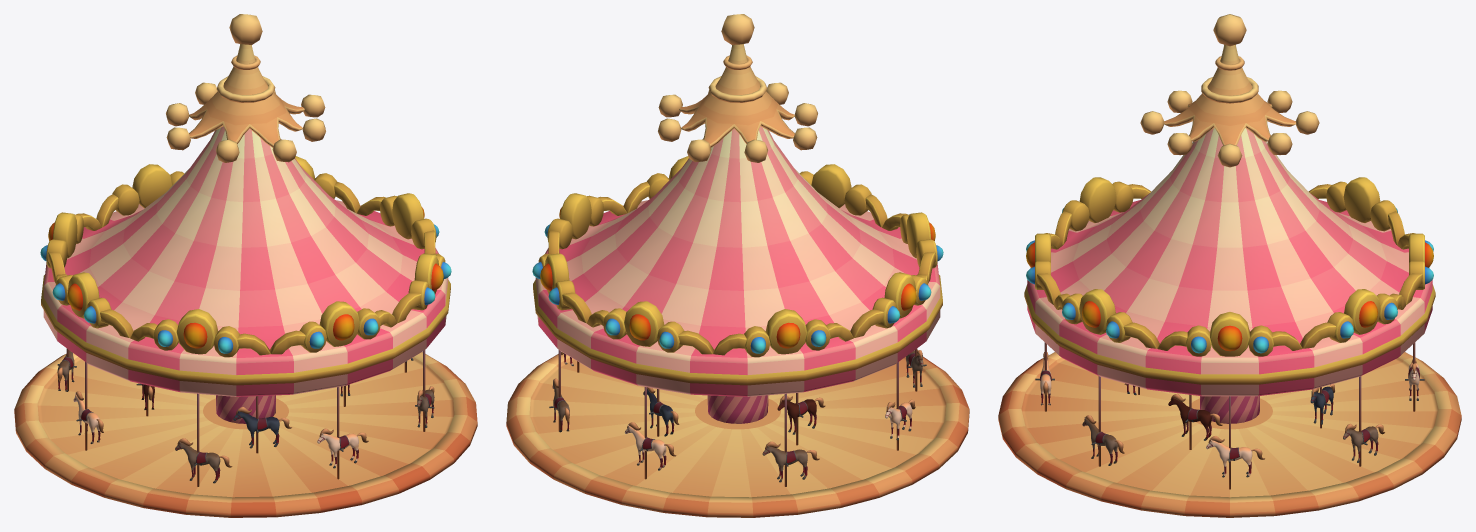
Rendered from lpb_ride_marygoround.fbx.
3 views of the same model, side by side, from view 1: azimuth 30°, elevation 25°; view 2: azimuth 150°, elevation 25°; view 3: azimuth 270°, elevation 25° (orthographic).
Visible parts, largest first — view 1: maryGoRounds, post, horse.004, horse, horse.008, horse.002, horse.007; view 2: maryGoRounds, post, horse.006, horse.001, horse.011, horse.002, horse.009, horse.005; view 3: maryGoRounds, post, horse.003, horse.007, horse.010, horse.005, horse.009, horse.
Part boxes in pixels (x1,y1,x2,y2): maryGoRounds: (14, 14, 477, 517); post: (216, 395, 275, 423); horse.004: (175, 393, 232, 486); horse: (317, 387, 368, 479); horse.008: (233, 396, 291, 453); horse.002: (73, 362, 103, 450); horse.007: (415, 350, 434, 431); maryGoRounds: (506, 14, 969, 517); post: (707, 395, 768, 423); horse.006: (762, 393, 819, 486); horse.001: (624, 387, 676, 479); horse.011: (777, 393, 825, 445); horse.002: (885, 362, 915, 450); horse.009: (643, 387, 679, 436); horse.005: (549, 350, 569, 432); maryGoRounds: (998, 14, 1461, 517); post: (1200, 396, 1259, 423); horse.003: (1206, 396, 1264, 489); horse.007: (1082, 376, 1124, 466); horse.010: (1168, 394, 1222, 449); horse.005: (1343, 376, 1384, 466); horse.009: (1310, 384, 1334, 428); horse: (1035, 342, 1054, 411).
Size of the model in its own units: 15.25 by 14.72 by 15.25.
